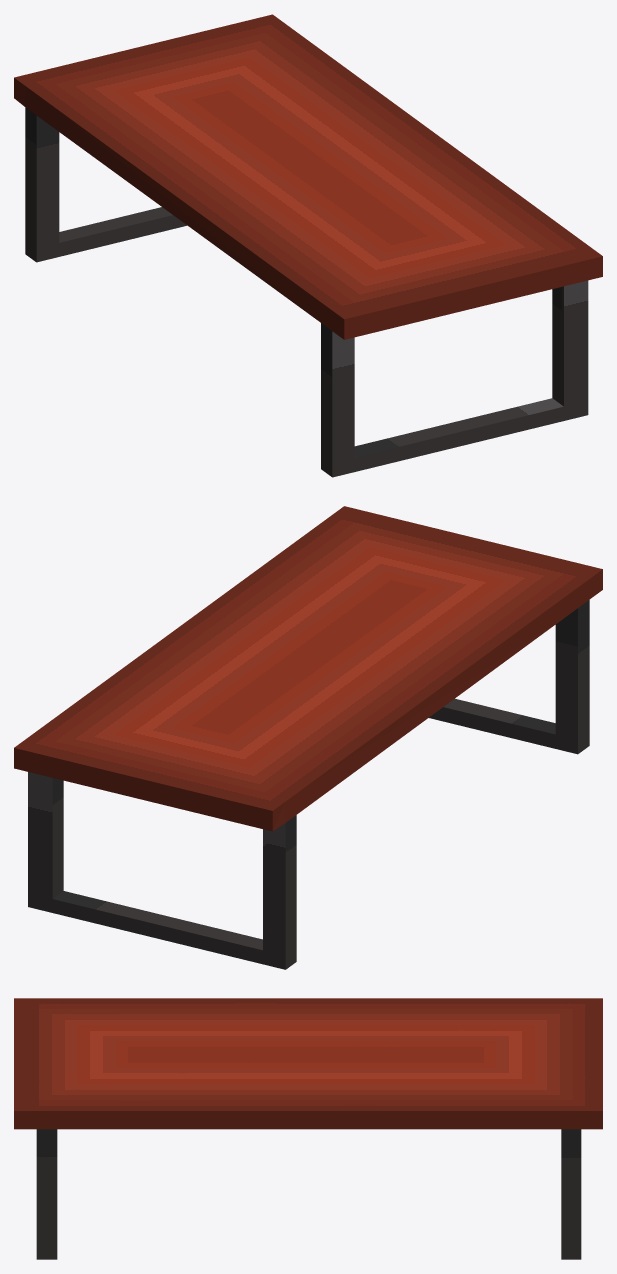
File: Mesa.fbx
The picture shows the model from 3 angles, top to bottom: view 1: azimuth 30°, elevation 25°; view 2: azimuth 150°, elevation 25°; view 3: azimuth 270°, elevation 25°; orthographic projection. The views are drawn at different scales.
Visible parts, largest first — view 1: Mesa; view 2: Mesa; view 3: Mesa.
Part boxes in pixels (left/top/right/bottom): Mesa: left=14, top=14, right=602, bottom=477; Mesa: left=14, top=506, right=602, bottom=969; Mesa: left=14, top=998, right=602, bottom=1259.
Size of the model in its own units: 159 by 97.88 by 349.
Materials: 2 (2 with a texture image).
